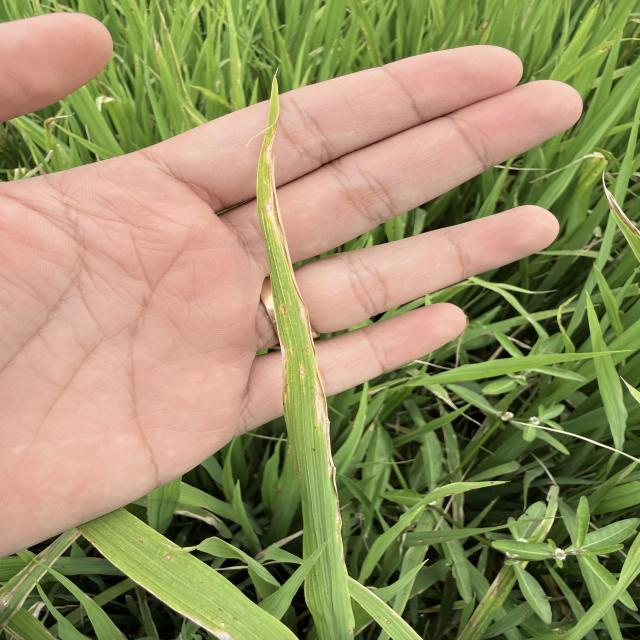Chay bia la: (264, 62, 338, 492)
